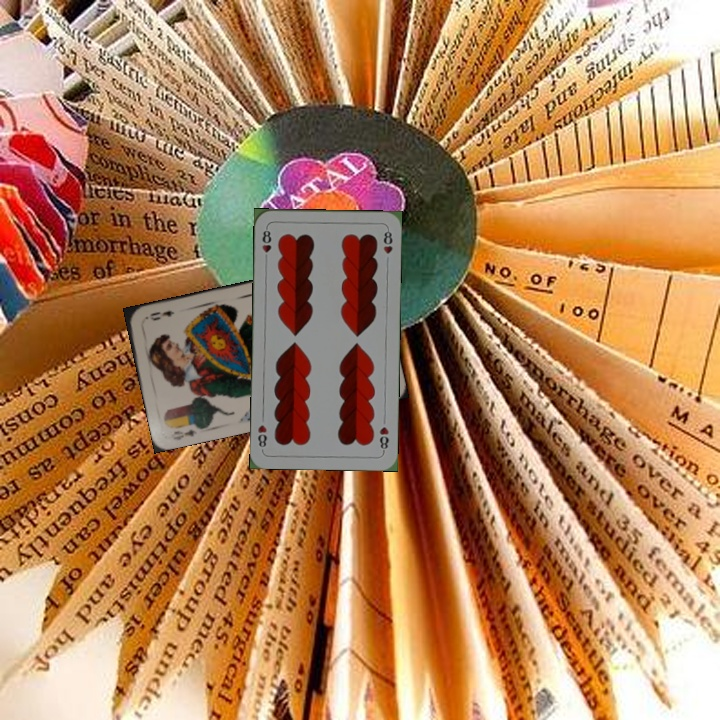EO: (167, 425, 200, 443)
H8: (258, 223, 274, 264), (375, 422, 391, 455)
